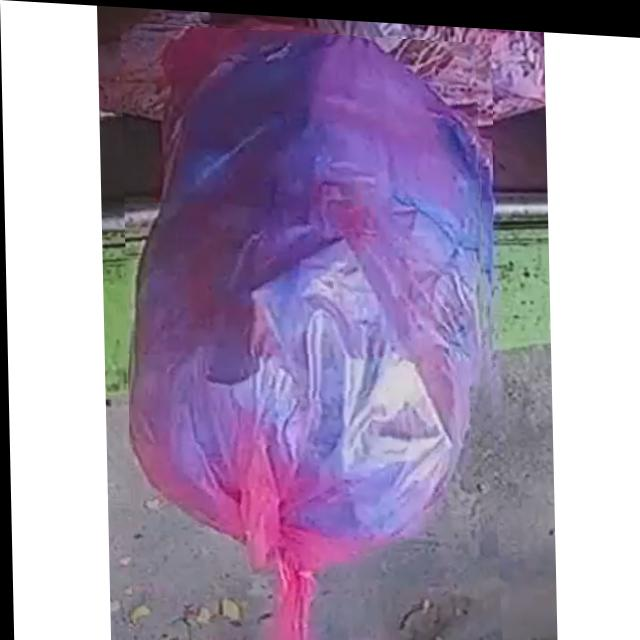other_trashbag: (127, 25, 485, 640)
